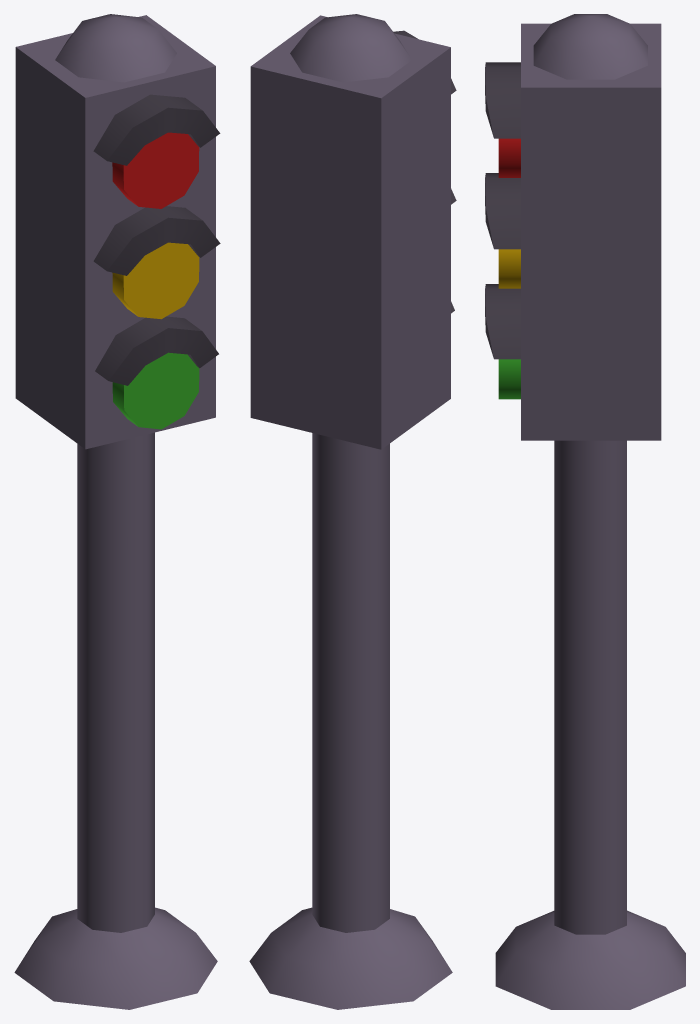
Rendered from traflight_v3.fbx.
3 views of the same model, side by side, from view 1: azimuth 30°, elevation 25°; view 2: azimuth 150°, elevation 25°; view 3: azimuth 270°, elevation 25° (orthographic).
Parts seen in each view (by area): view 1: traflight_v3; view 2: traflight_v3; view 3: traflight_v3.
Boxes of the visible parts, bbox=[...] form: traflight_v3: bbox=[14, 14, 220, 1009]; traflight_v3: bbox=[249, 14, 456, 1009]; traflight_v3: bbox=[485, 14, 685, 1009].
Bounding box in the file's own units: 48.43 × 268 × 51.11.
